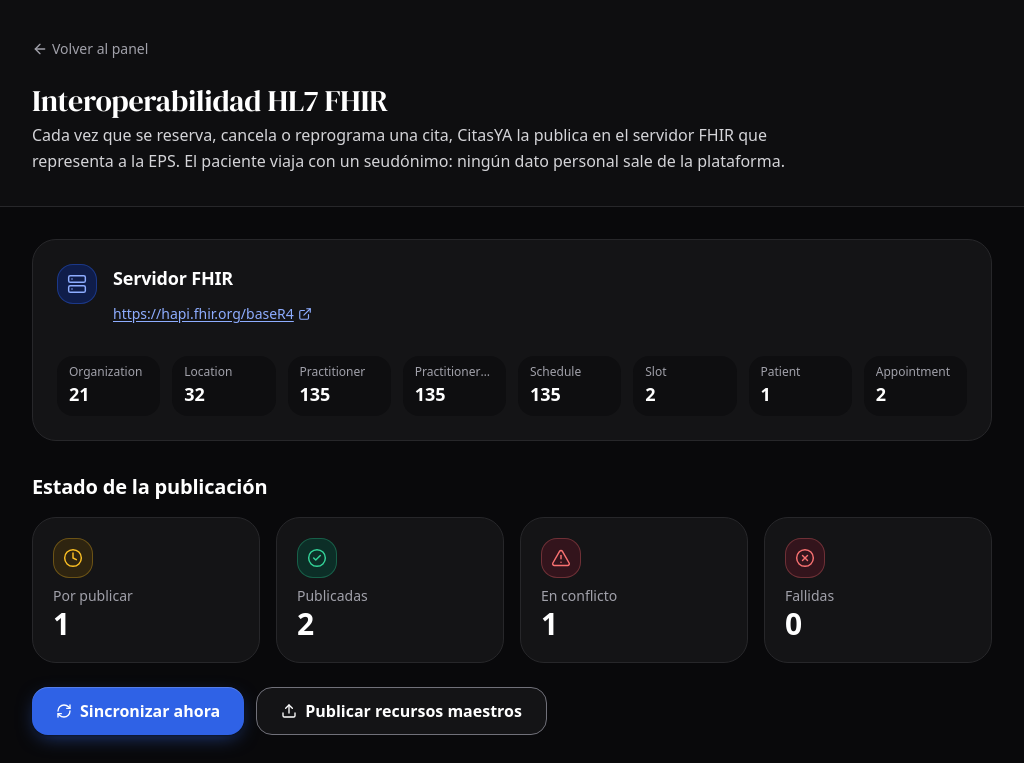
Test: AdminFhirPage (ADR-0009) › si la acción falla, lo dice con un mensaje que se anuncia
Click the button "Publicar recursos maestros": point(402, 711) [256,687,547,735]
(page scrolled)
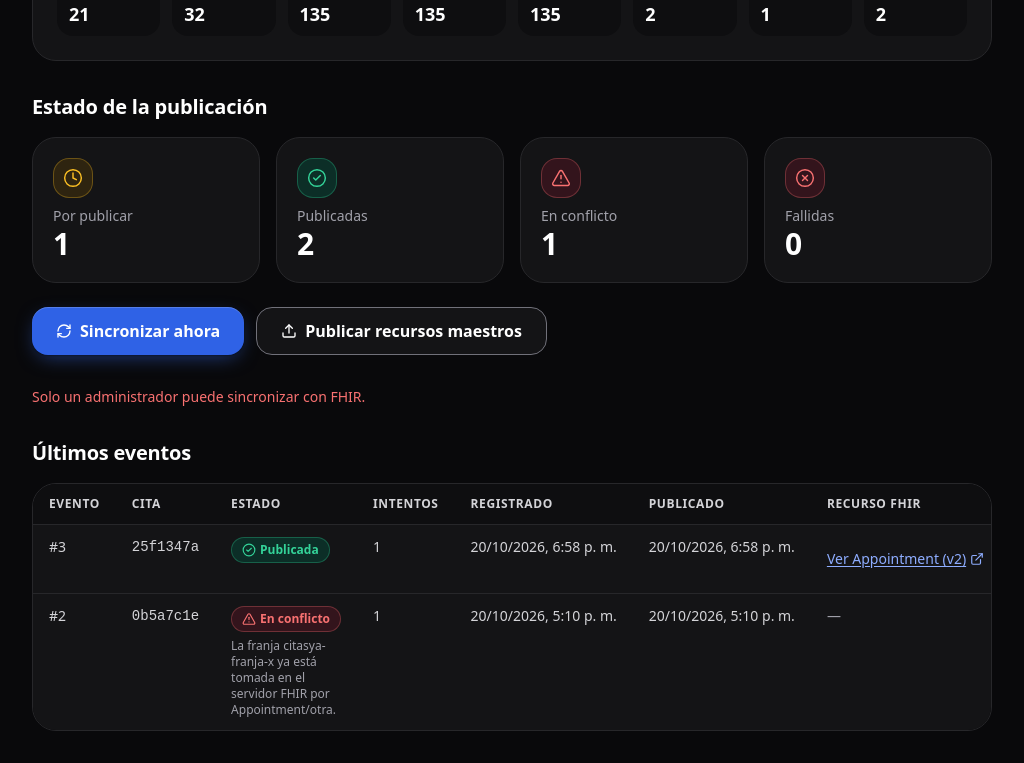
expect the message shows "Solo un administrador": met, box [32,387,365,406]
